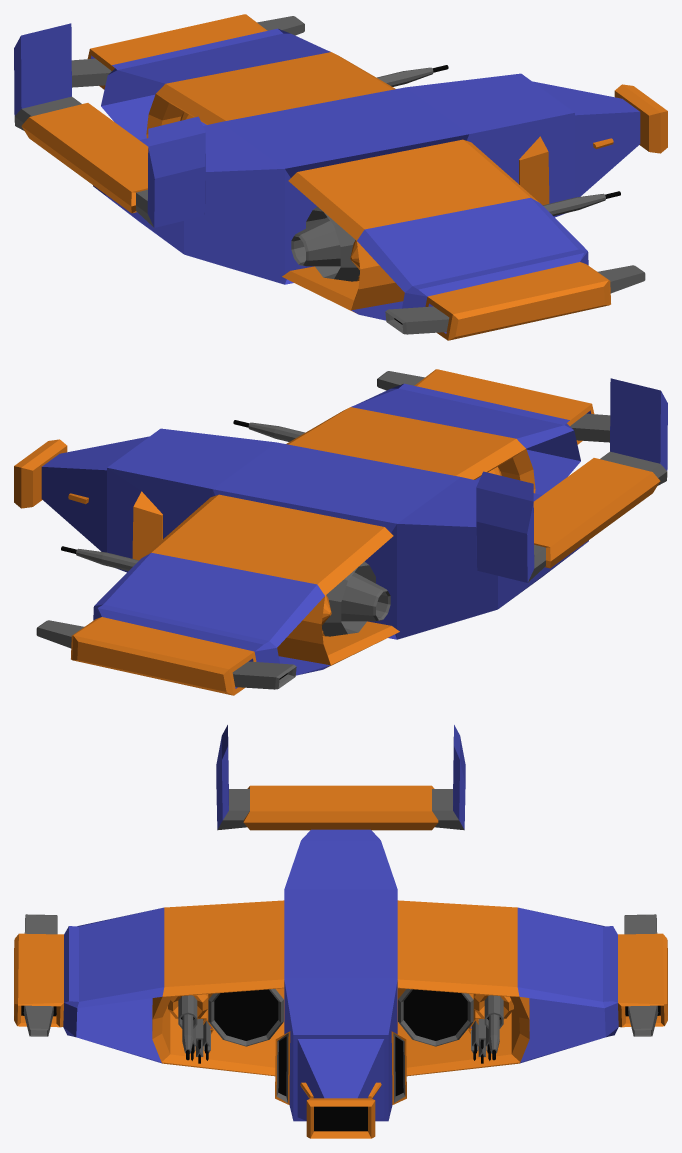
The model's file is Heat of Space Fighter.fbx.
3 views of the same model, one above another, from view 1: azimuth 30°, elevation 25°; view 2: azimuth 150°, elevation 25°; view 3: azimuth 270°, elevation 25° (orthographic). The views are drawn at different scales.
Parts seen in each view (by area): view 1: Fighter; view 2: Fighter; view 3: Fighter.
Part boxes in pixels (x1=…): Fighter: x1=14, y1=14, x2=667, y2=340; Fighter: x1=14, y1=369, x2=667, y2=695; Fighter: x1=14, y1=725, x2=667, y2=1138.
Size of the model in its own units: 1037 by 398 by 1152.
